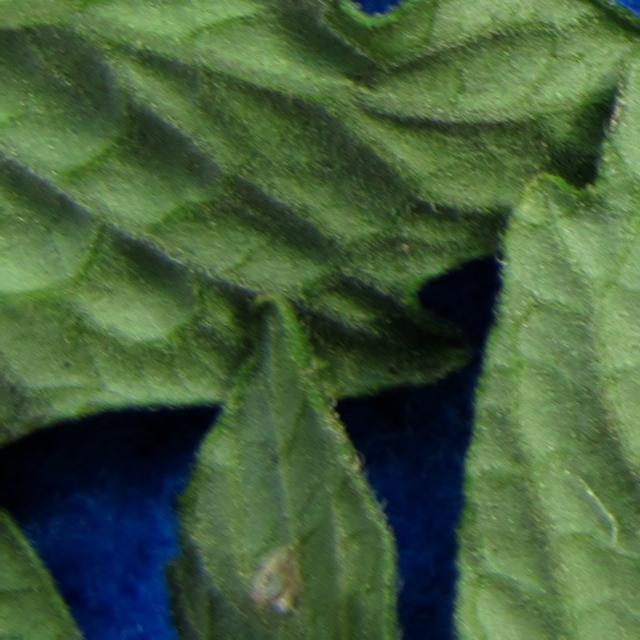Tomato leaf late blight: (149, 0, 640, 640), (0, 0, 640, 440)
